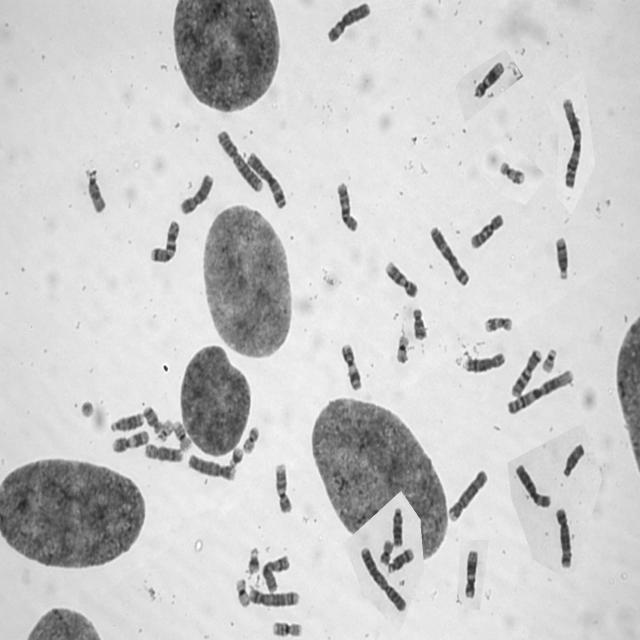A1: (504, 364, 576, 416), (558, 92, 584, 190)
A2: (357, 542, 408, 614), (213, 125, 264, 193)
A3: (426, 222, 471, 288), (243, 147, 287, 210)
B4: (446, 464, 490, 524), (184, 450, 237, 482)
B5: (553, 503, 574, 569), (246, 583, 300, 608)
C10: (467, 208, 505, 250), (333, 177, 360, 233)
C11: (338, 338, 363, 392), (109, 426, 150, 454)
C12: (470, 56, 506, 99), (462, 546, 479, 600)
C6: (323, 0, 371, 44), (512, 460, 552, 509)
C7: (508, 344, 543, 398), (146, 215, 182, 264)
C8: (461, 347, 506, 374), (141, 439, 185, 464)
C9: (382, 256, 418, 299), (272, 459, 292, 514)
D13: (107, 408, 145, 433), (390, 503, 404, 548)
D14: (385, 544, 415, 574), (552, 232, 570, 281)
D15: (83, 165, 107, 214), (560, 439, 586, 479)
E16: (169, 417, 193, 452), (268, 617, 304, 638)
E17: (496, 156, 526, 186), (481, 311, 514, 334)
E18: (140, 402, 162, 434), (409, 304, 428, 341)
F19: (232, 574, 252, 608), (392, 330, 411, 364)
F20: (240, 421, 260, 455), (376, 536, 394, 566)
G21: (244, 542, 261, 576), (226, 443, 245, 468)
G22: (153, 414, 174, 444), (538, 344, 558, 374)
X: (176, 169, 215, 216), (259, 550, 291, 592)
